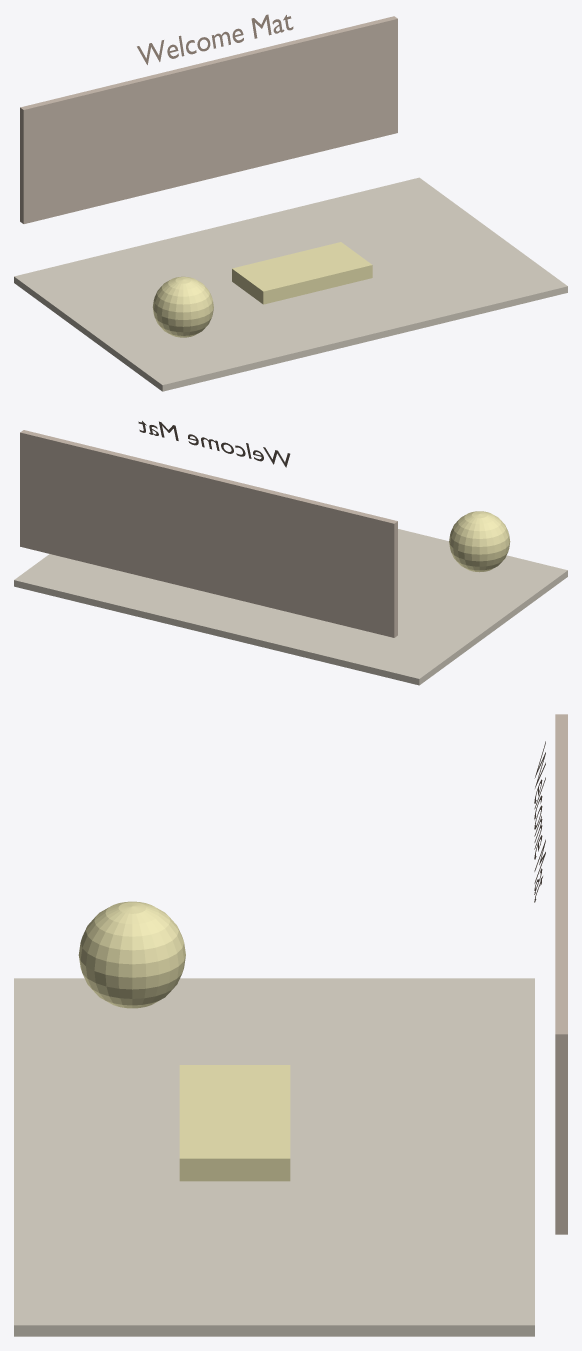
Rendered from 03_triggers.glb.
3 renders of one model, top to bottom at view 1: azimuth 30°, elevation 25°; view 2: azimuth 150°, elevation 25°; view 3: azimuth 270°, elevation 25°, orthographic. The views are drawn at different scales.
Parts seen in each view (by area): view 1: PaperFloor-col, BackCard, WelcomeMatTrigger, FpeRushPlayer, TitleLabel; view 2: BackCard, PaperFloor-col, FpeRushPlayer, TitleLabel; view 3: PaperFloor-col, WelcomeMatTrigger, FpeRushPlayer, BackCard, TitleLabel.
Boxes of the visible parts, x1,y1,x2,y2 form: PaperFloor-col: [14, 177, 567, 391]; BackCard: [20, 16, 397, 223]; WelcomeMatTrigger: [232, 242, 372, 304]; FpeRushPlayer: [152, 276, 213, 337]; TitleLabel: [137, 14, 293, 64]; BackCard: [20, 430, 397, 637]; PaperFloor-col: [14, 529, 567, 685]; FpeRushPlayer: [449, 511, 510, 572]; TitleLabel: [138, 421, 290, 467]; PaperFloor-col: [14, 978, 534, 1336]; WelcomeMatTrigger: [179, 1065, 290, 1181]; FpeRushPlayer: [78, 901, 185, 1008]; BackCard: [555, 714, 567, 1234]; TitleLabel: [534, 741, 545, 902].
Size of the model in its own units: 5.2 by 2.49 by 3.51.
